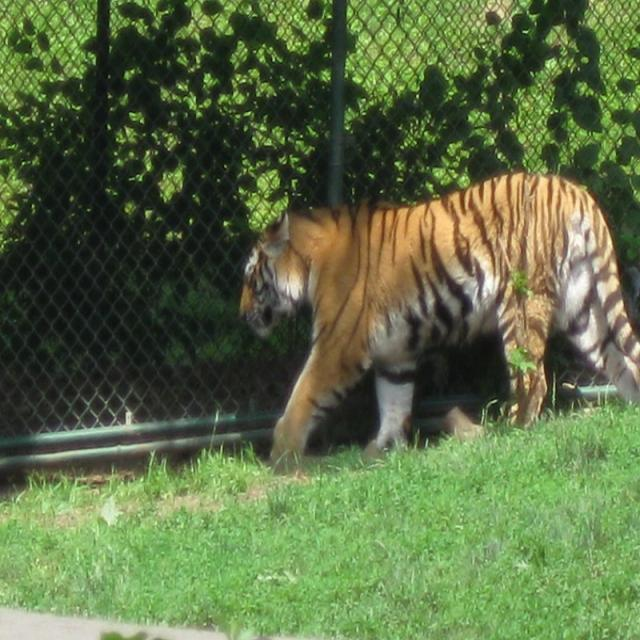Tiger: (238, 170, 640, 464)
